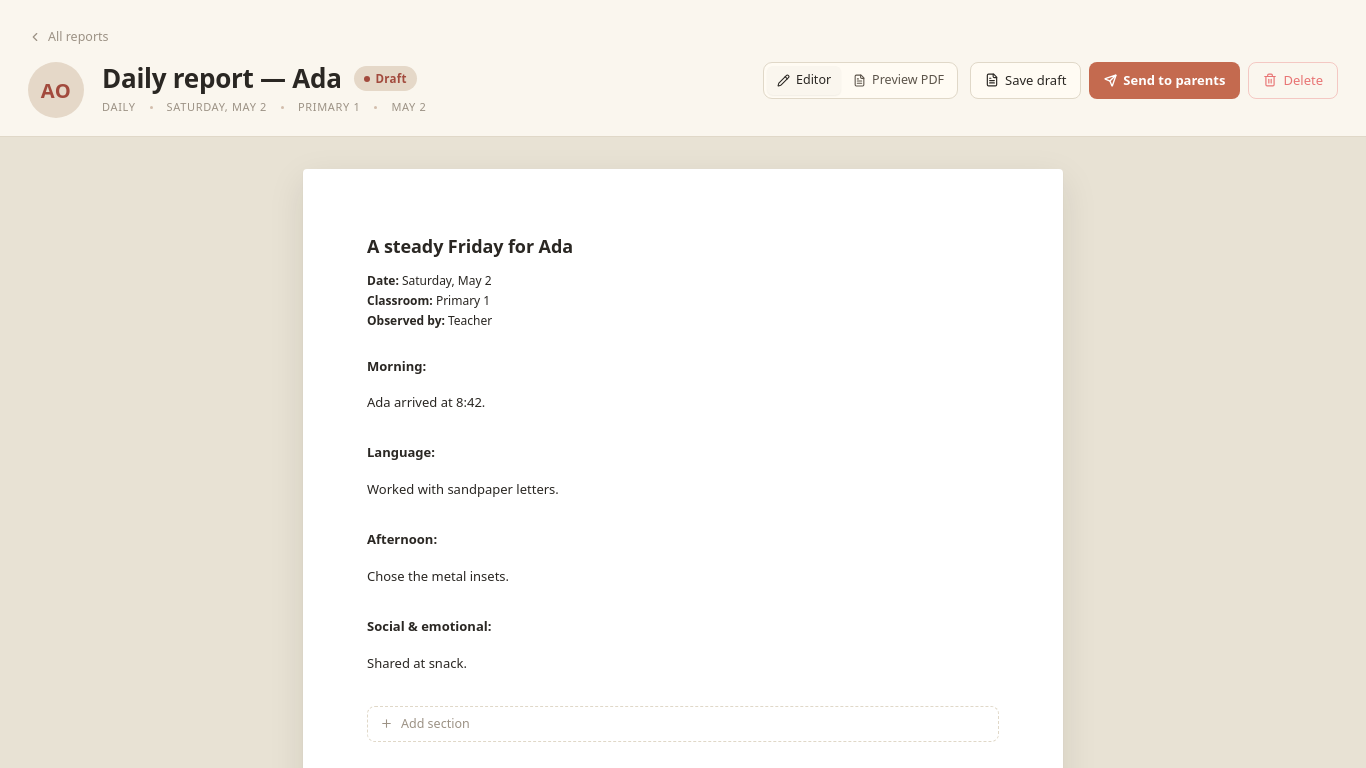
Test: ReportDetail › flips the saved-meta when the title is edited
Replace the text in the field named "Report title" with "A different title". click: [683, 247]
box: x1=367 y1=233 x2=999 y2=260
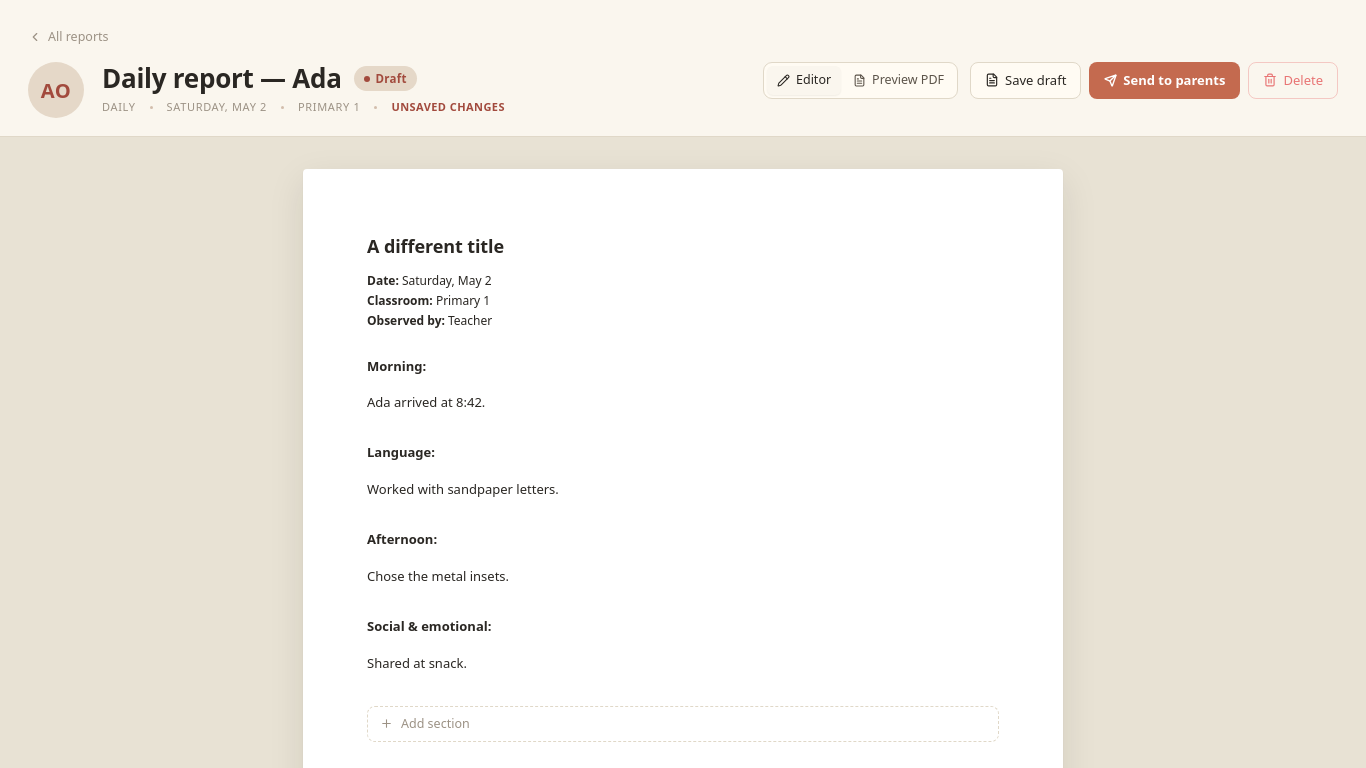
Result: the text "Unsaved changes" is shown at x1=391 y1=99 x2=505 y2=116
